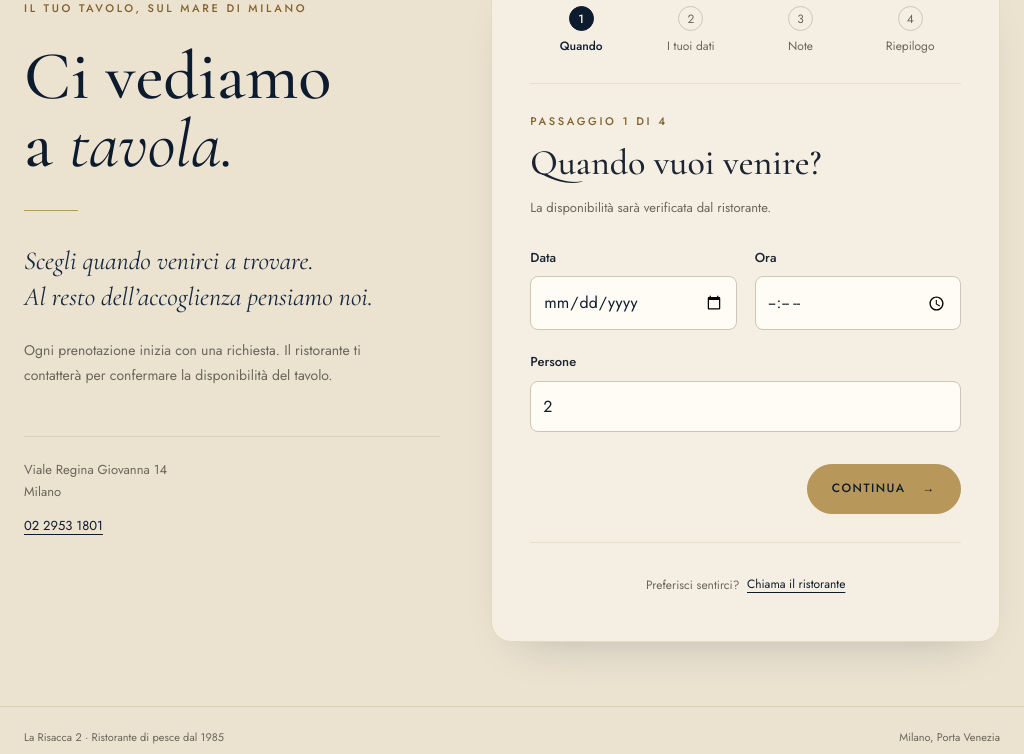
Test: percorso del form › blocca il passaggio successivo quando mancano data e ora
(page scrolled)
What coordinates should you click on to do the following:
click the button "Continua →"
I would click on:
 (884, 489)
Its box is x1=807 y1=464 x2=961 y2=514.
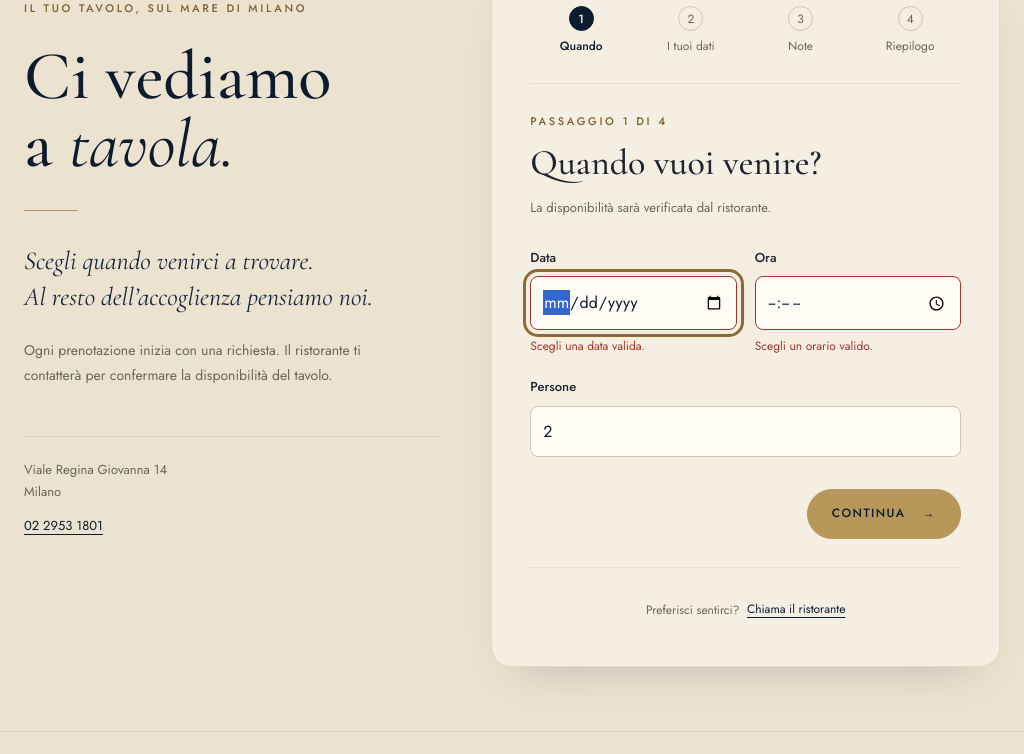
Expected: the text "Scegli una data valida." is shown, x1=530 y1=337 x2=645 y2=355
Expected: the text "Scegli un orario valido." is shown, x1=755 y1=337 x2=873 y2=355
